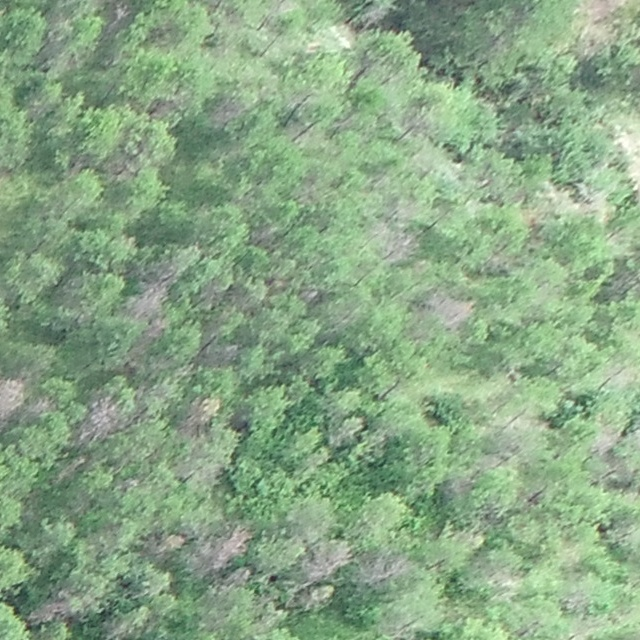unhealthy: (198, 522, 253, 573), (124, 269, 175, 321), (29, 586, 89, 625), (78, 395, 125, 443), (424, 287, 475, 328), (301, 541, 354, 579), (373, 222, 422, 262), (358, 551, 414, 585), (176, 395, 220, 436), (0, 373, 27, 427), (104, 609, 151, 639), (208, 97, 248, 129), (601, 357, 639, 390), (485, 564, 523, 596), (145, 530, 186, 558), (297, 583, 334, 612), (328, 417, 363, 447), (104, 1, 135, 33), (590, 426, 621, 458), (55, 455, 88, 483), (357, 3, 390, 29), (198, 279, 225, 308), (561, 587, 590, 612), (222, 566, 252, 589), (219, 339, 242, 368), (29, 395, 56, 419), (142, 318, 170, 341)
